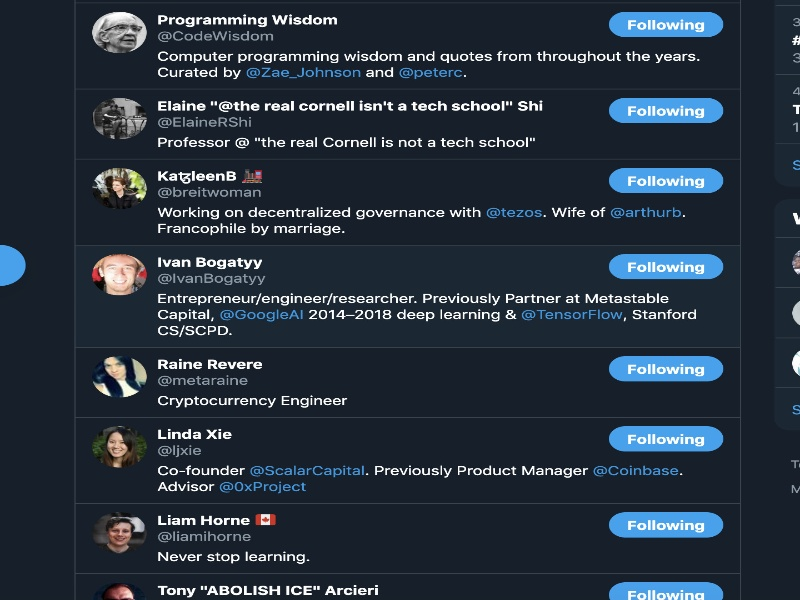follbut: (607, 95, 725, 124), (607, 252, 725, 281), (607, 167, 725, 195), (607, 511, 725, 539), (608, 424, 724, 452), (606, 11, 725, 38), (609, 355, 725, 382), (607, 581, 723, 600)
